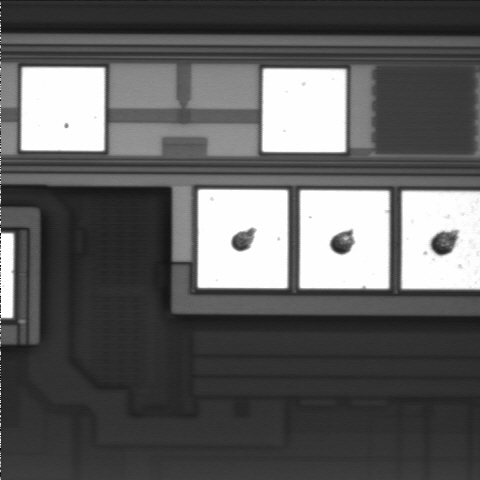pad: (198, 190, 288, 288), (300, 190, 389, 289), (21, 67, 105, 151), (262, 69, 346, 152)
